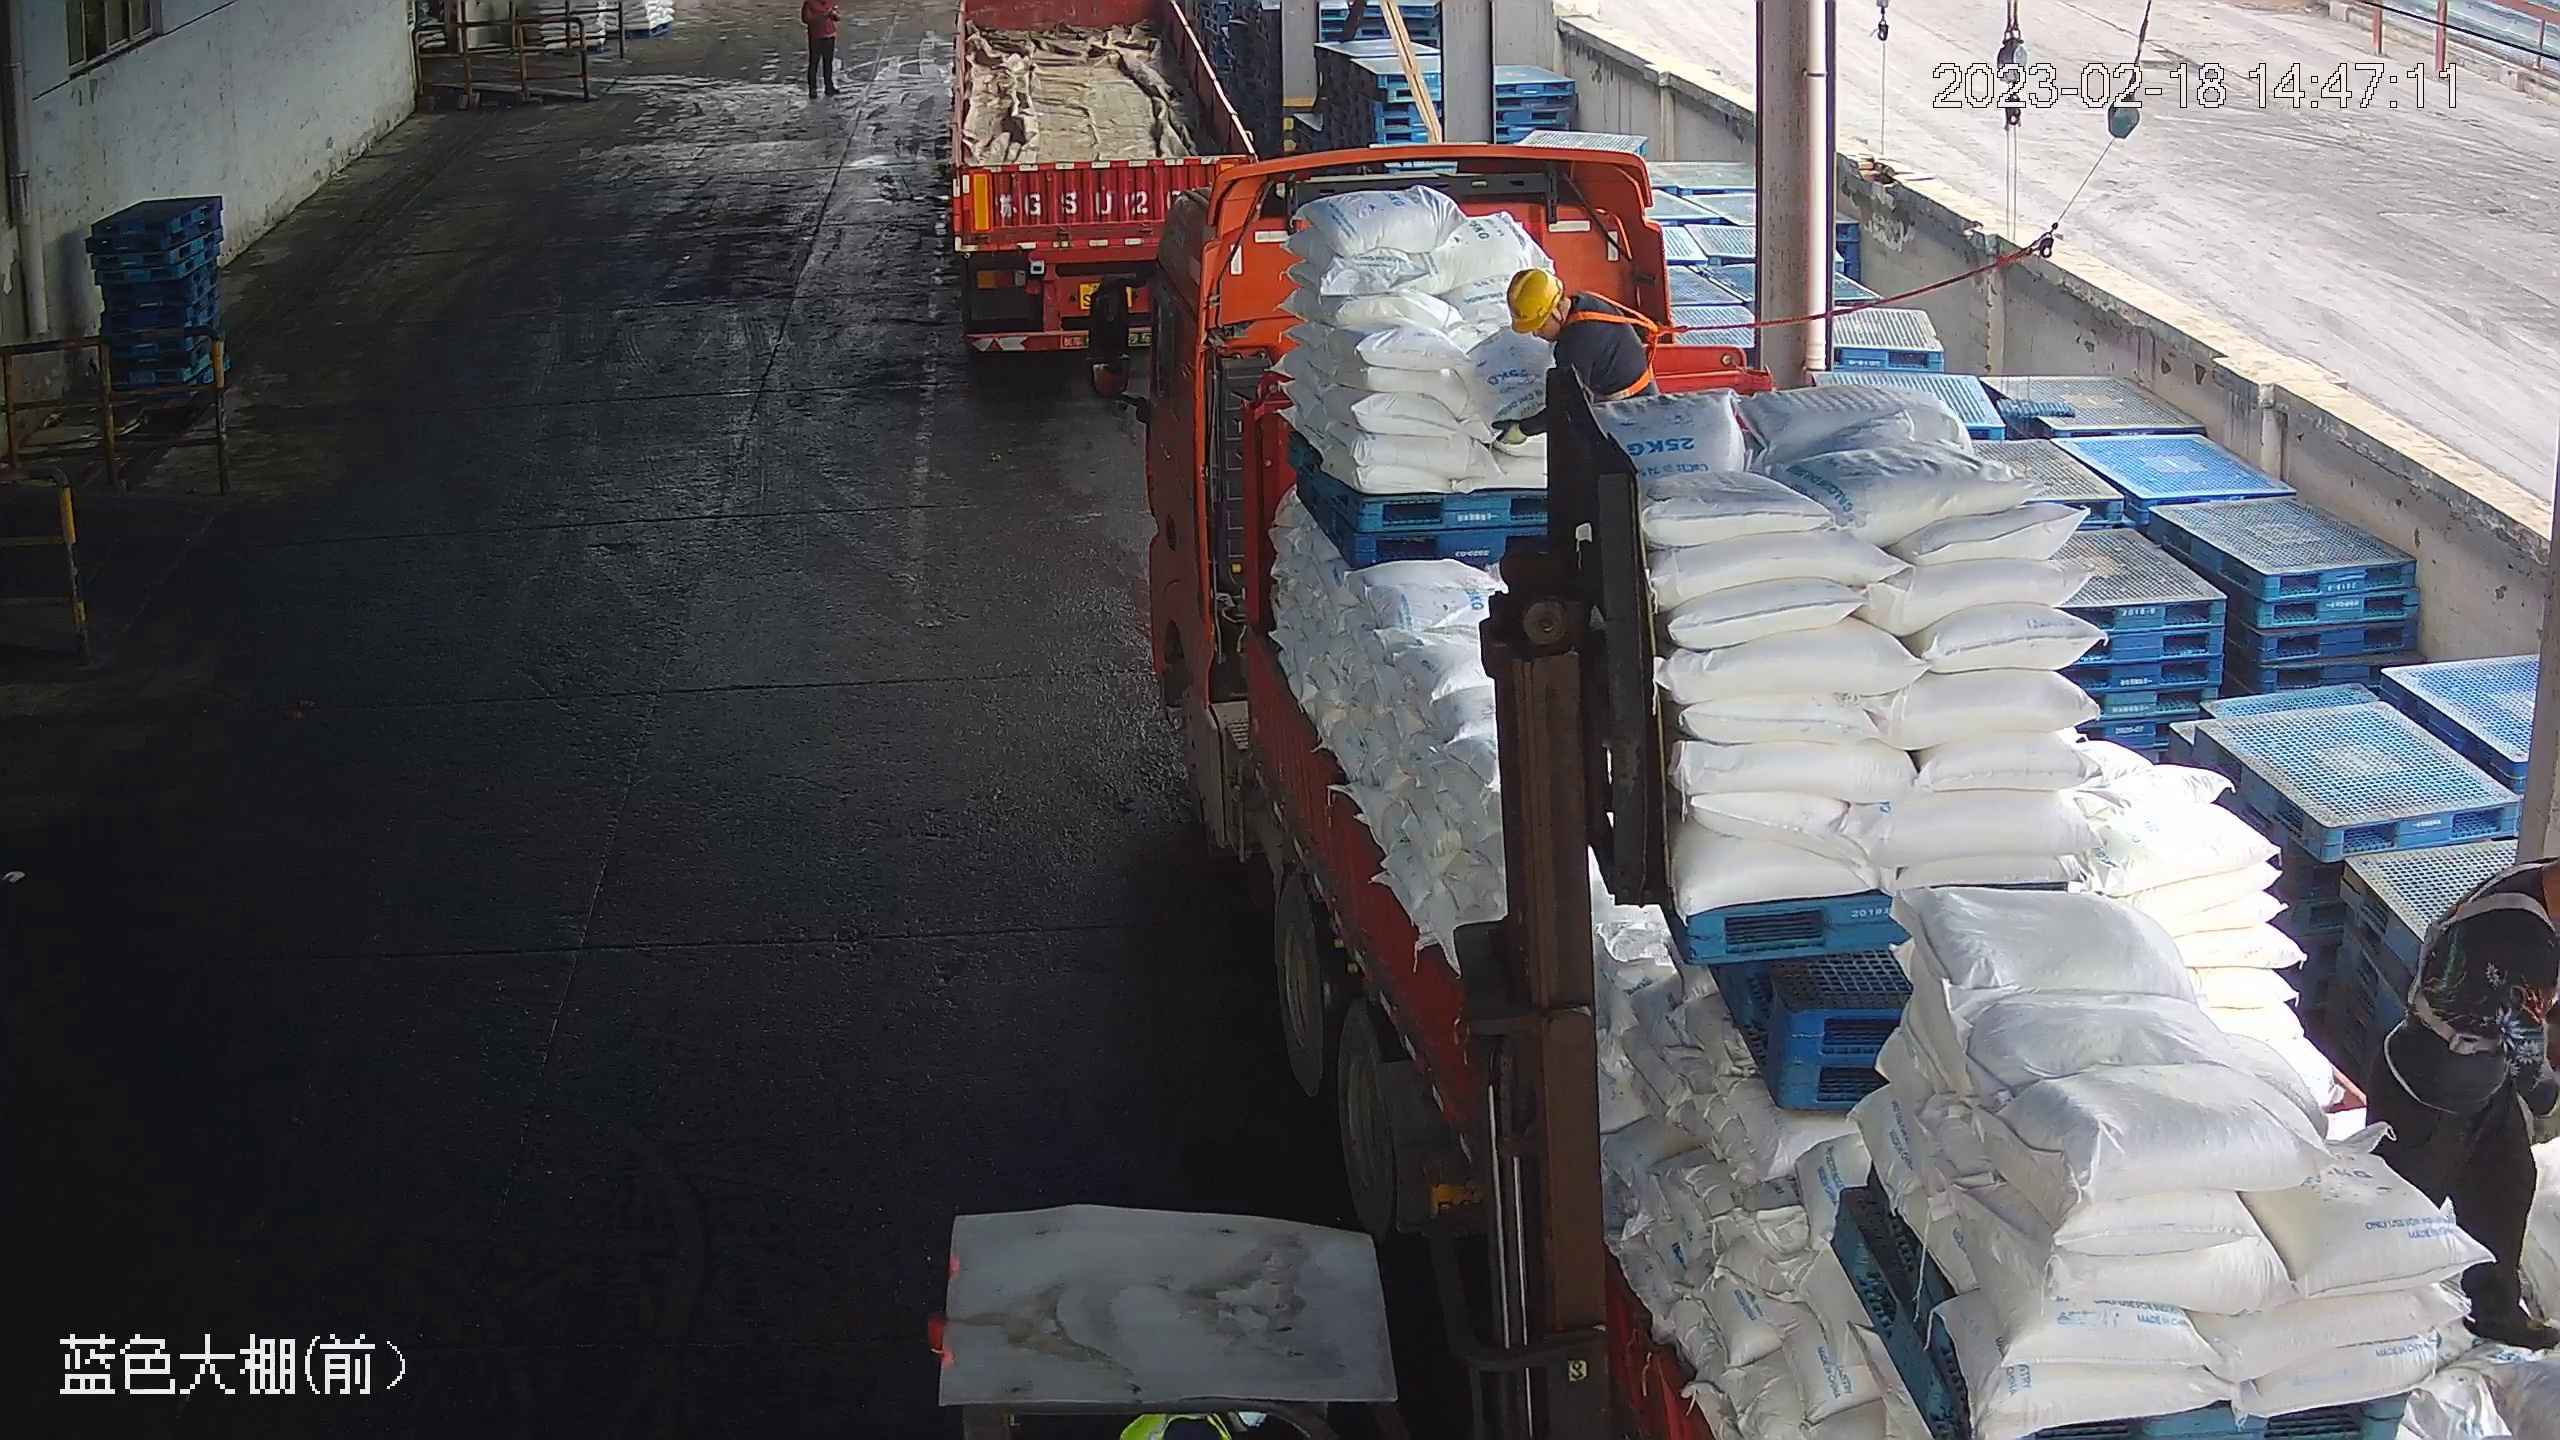belt: (2418, 873, 2555, 1056), (1562, 290, 1663, 402)
head: (1502, 264, 1632, 382)
helmet: (1502, 263, 1567, 332)
people: (2372, 836, 2560, 1358)
truck: (1086, 143, 2554, 1439), (949, 1, 1254, 359)
